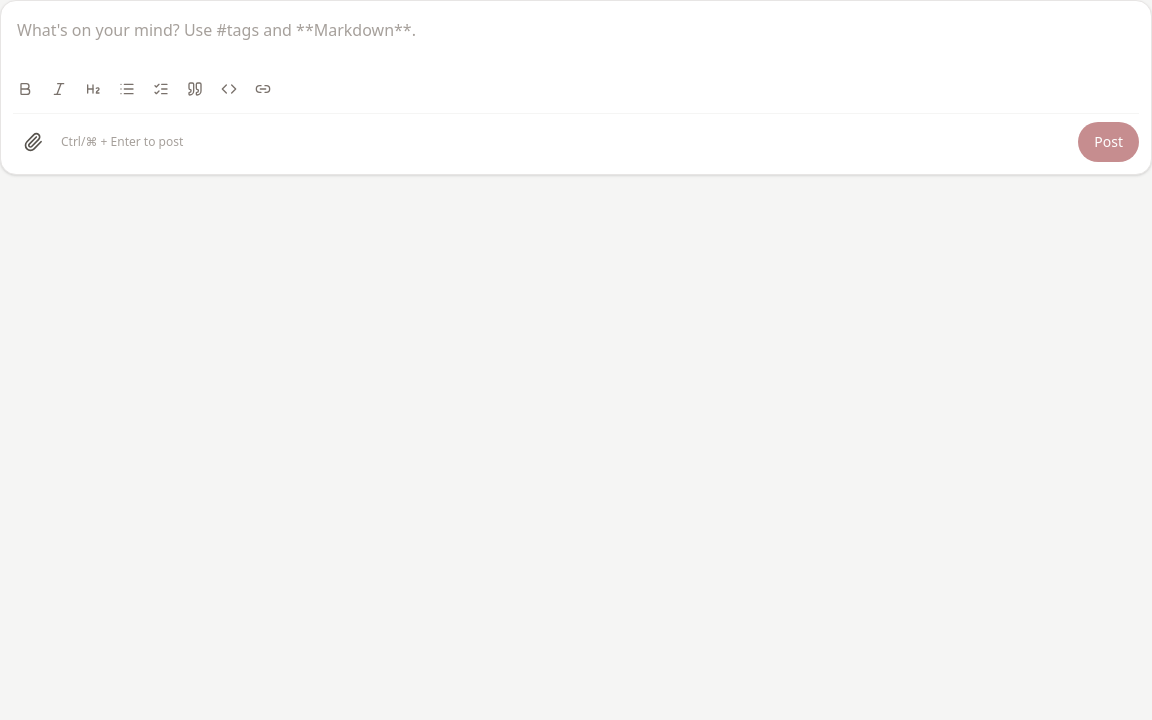
Composer › shows the server's validation message when saving fails
Type "x" into the text box named "New note". click: (576, 43)
box: top-left (13, 13), bottom-right (1139, 73)
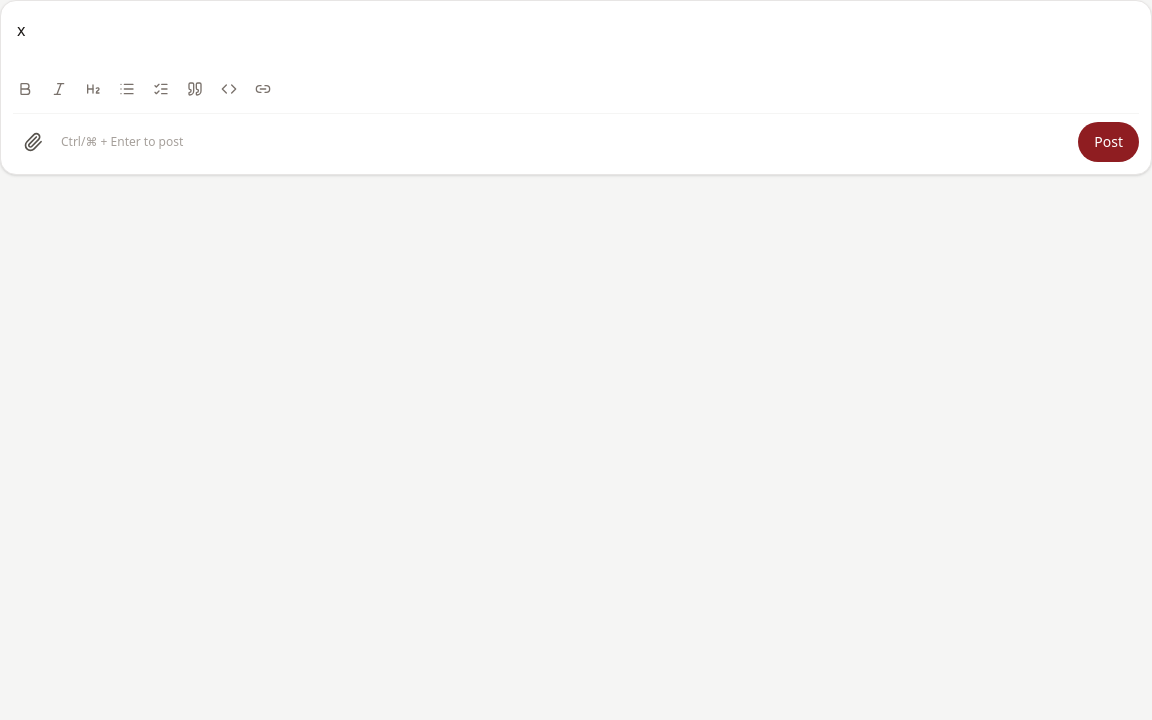
Click the button "Post". click: (1109, 142)
box: top-left (1078, 122), bottom-right (1139, 162)
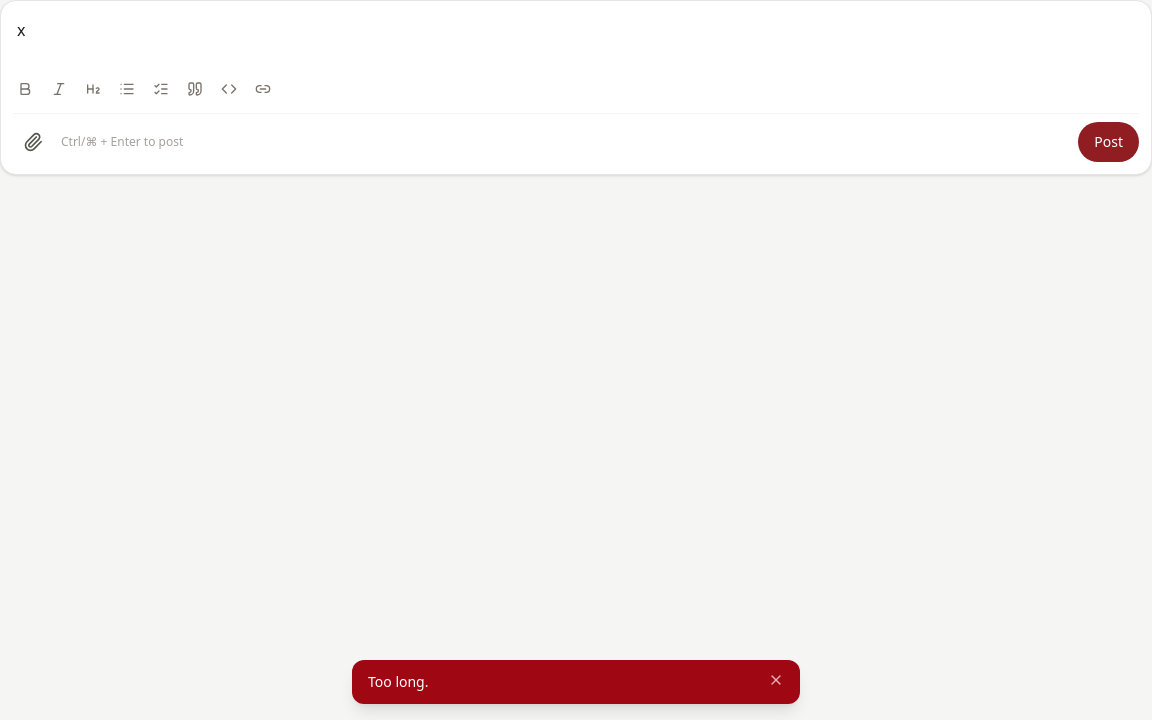
Result: the text "Too long." is shown at top-left (368, 672), bottom-right (428, 691)
